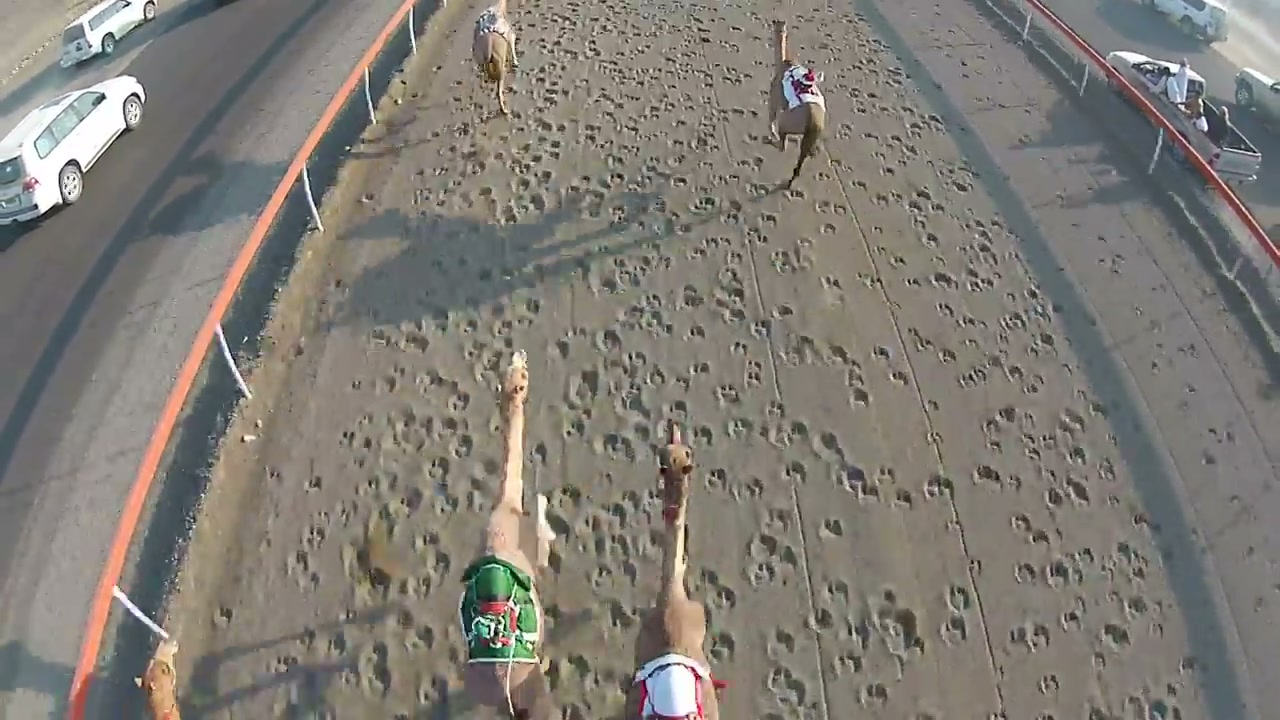animal_foot_print: (172, 0, 1197, 719)
